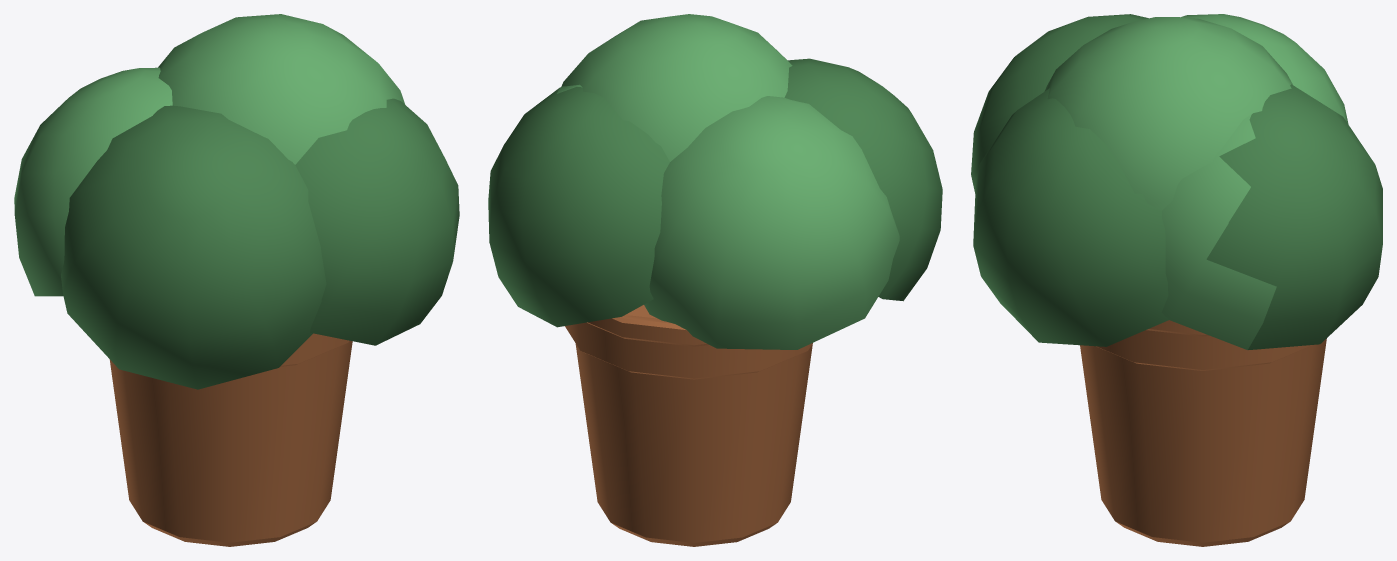
Rendered from flowerpotsmall2.fbx.
3 renders of one model, left to right at view 1: azimuth 30°, elevation 25°; view 2: azimuth 150°, elevation 25°; view 3: azimuth 270°, elevation 25°, orthographic. The views are drawn at different scales.
Visible parts, largest first — view 1: pSphere29, pCylinder2, pSphere31, pSphere27, pSphere30; view 2: pSphere30, pCylinder2, pSphere28, pSphere27, pSphere29; view 3: pCylinder2, pSphere31, pSphere28, pSphere27, pSphere100, pSphere29, pSphere30.
Part boxes in pixels (bbox=[...]): pSphere29: bbox=[61, 105, 326, 389]; pCylinder2: bbox=[109, 333, 352, 546]; pSphere31: bbox=[295, 98, 459, 345]; pSphere27: bbox=[158, 14, 404, 164]; pSphere30: bbox=[14, 67, 172, 296]; pSphere30: bbox=[644, 96, 899, 349]; pCylinder2: bbox=[565, 305, 812, 546]; pSphere28: bbox=[488, 87, 669, 327]; pSphere27: bbox=[561, 14, 792, 161]; pSphere29: bbox=[784, 58, 942, 301]; pCylinder2: bbox=[1080, 320, 1326, 546]; pSphere31: bbox=[973, 88, 1168, 346]; pSphere28: bbox=[1206, 84, 1382, 349]; pSphere27: bbox=[1044, 17, 1292, 210]; pSphere100: bbox=[1161, 114, 1276, 349]; pSphere29: bbox=[971, 14, 1148, 193]; pSphere30: bbox=[1181, 14, 1348, 124].
Size of the model in its own units: 3.97 by 4.91 by 3.74.
